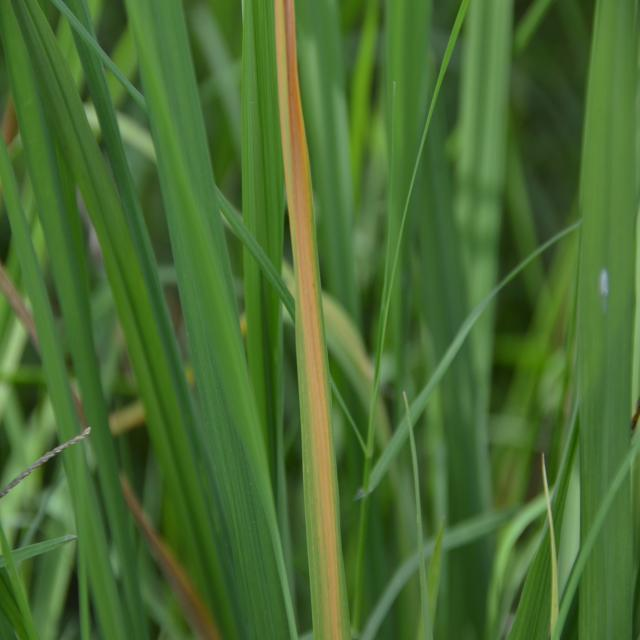Rice Tungro: (255, 15, 383, 629)
